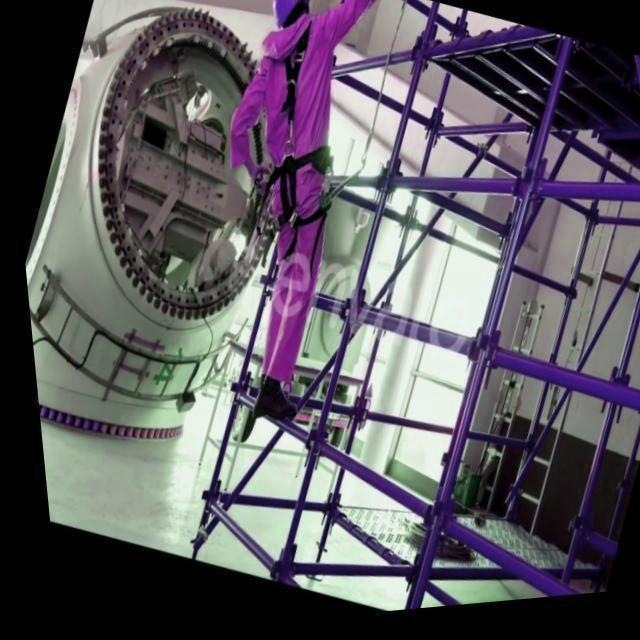safety belt: (248, 21, 329, 286)
